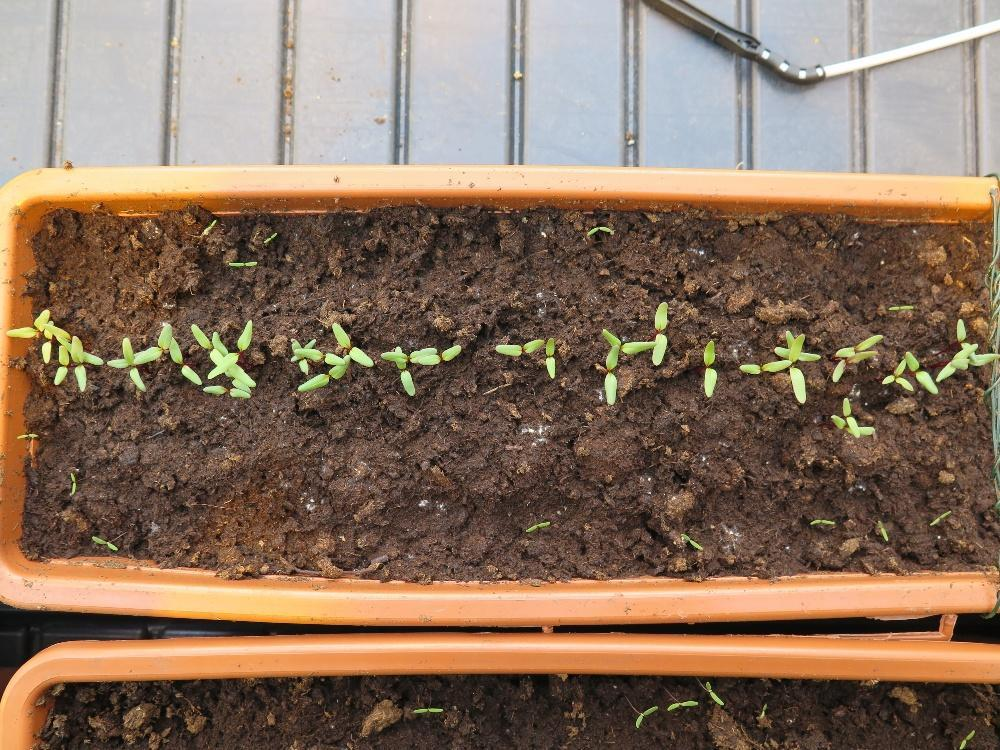crop: (700, 337, 716, 397), (493, 336, 543, 355), (544, 335, 555, 379)
weed: (633, 703, 658, 730), (704, 678, 724, 707), (89, 533, 118, 552), (677, 531, 702, 551), (666, 698, 698, 712), (927, 508, 951, 526), (523, 519, 550, 533), (584, 224, 612, 237), (411, 704, 442, 714), (876, 517, 888, 542), (808, 515, 835, 526), (225, 258, 257, 266), (15, 430, 38, 440), (886, 303, 914, 311), (261, 230, 277, 244), (68, 469, 75, 495), (202, 218, 215, 231)
